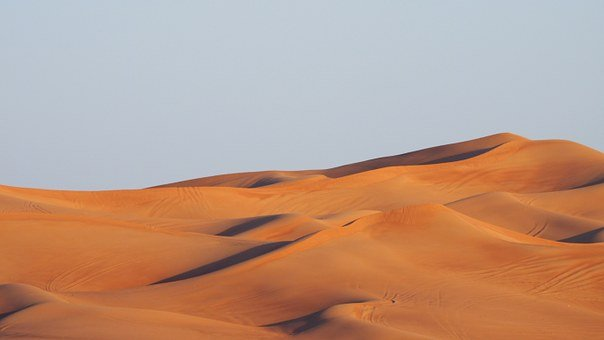ground: (3, 159, 604, 337)
sky: (1, 3, 601, 168)
